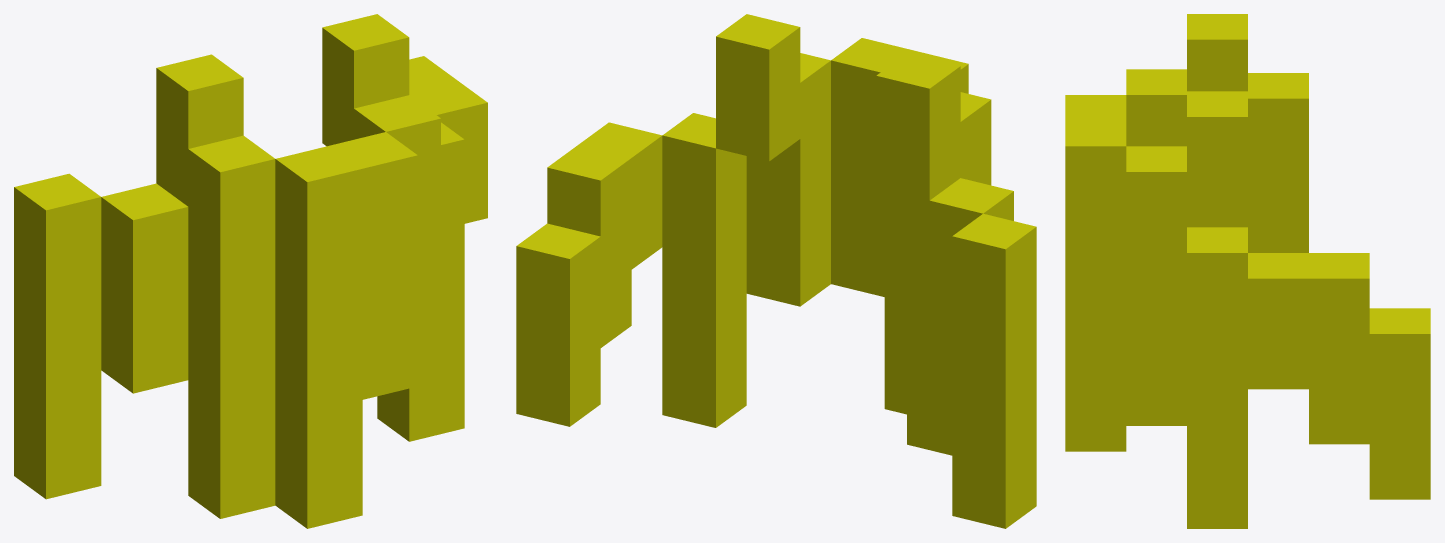
File: Gargola-4.obj
3 renders of one model, left to right at view 1: azimuth 30°, elevation 25°; view 2: azimuth 150°, elevation 25°; view 3: azimuth 270°, elevation 25°, orthographic. The views are drawn at different scales.
Size of the model in its own units: 0.8 by 0.7 by 0.6.
Materials: 1 (1 with a texture image).
